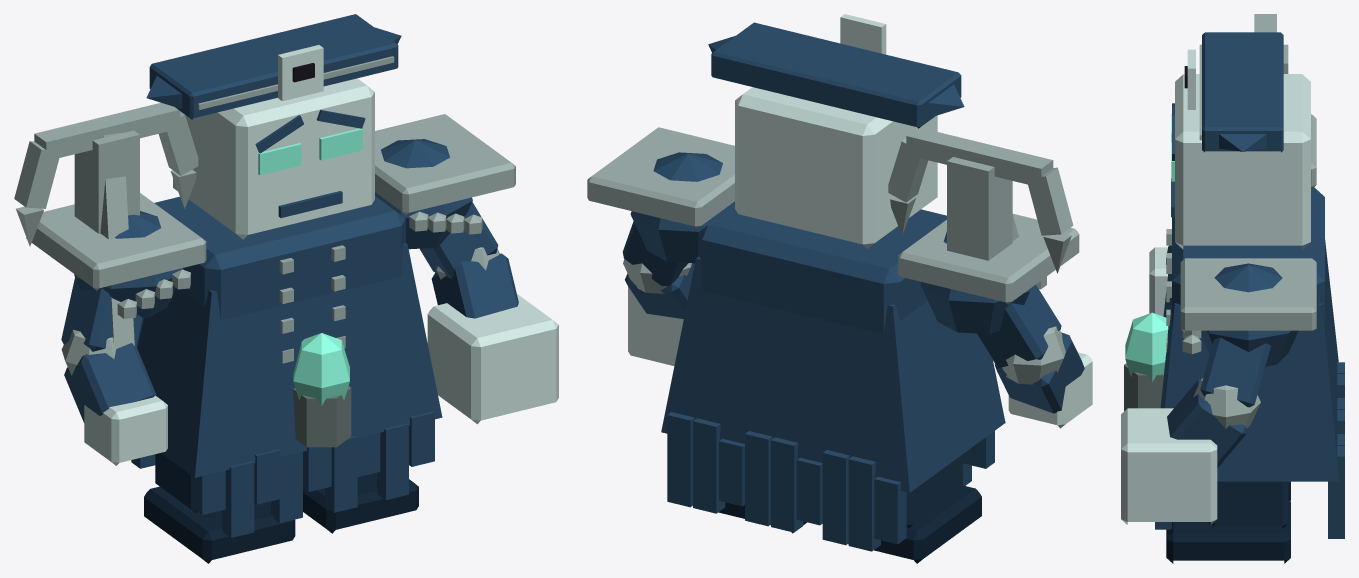
Rendered from r14_boss_spectral_admiral.glb.
3 renders of one model, left to right at view 1: azimuth 30°, elevation 25°; view 2: azimuth 150°, elevation 25°; view 3: azimuth 270°, elevation 25°, orthographic. The views are drawn at different scales.
Parts seen in each view (by area): view 1: r14_boss_spectral_admiral_mesh; view 2: r14_boss_spectral_admiral_mesh; view 3: r14_boss_spectral_admiral_mesh.
Part boxes in pixels (bbox=[...]): r14_boss_spectral_admiral_mesh: bbox=[14, 14, 558, 563]; r14_boss_spectral_admiral_mesh: bbox=[587, 14, 1092, 563]; r14_boss_spectral_admiral_mesh: bbox=[1121, 14, 1344, 563].
Size of the model in its own units: 8.13 by 8 by 3.55.
1 material, 1 textured.
